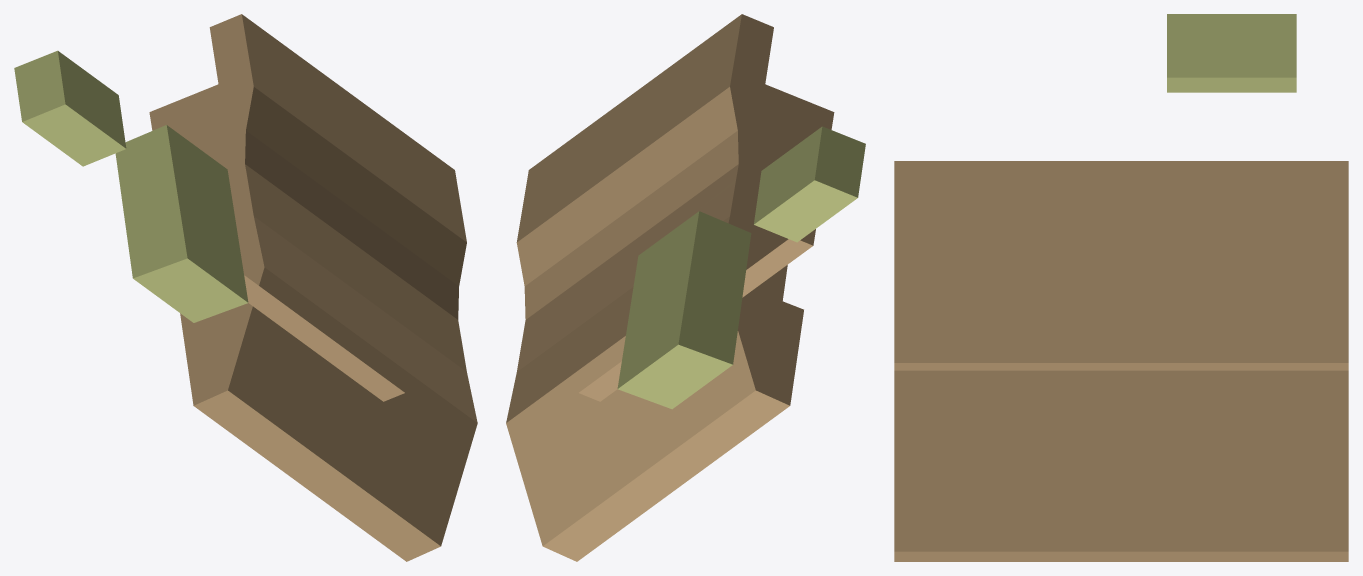
3 views of the same model, side by side, from view 1: azimuth 30°, elevation 25°; view 2: azimuth 150°, elevation 25°; view 3: azimuth 270°, elevation 25° (orthographic). The views are drawn at different scales.
Parts seen in each view (by area): view 1: 0_1_2_0_3_1_2_3_0_2; view 2: 0_1_2_0_3_1_2_3_0_2; view 3: 0_1_2_0_3_1_2_3_0_2.
Boxes of the visible parts, x1=… form: 0_1_2_0_3_1_2_3_0_2: x1=14, y1=14, x2=477, y2=561; 0_1_2_0_3_1_2_3_0_2: x1=506, y1=14, x2=865, y2=561; 0_1_2_0_3_1_2_3_0_2: x1=894, y1=14, x2=1348, y2=561.
Size of the model in its own units: 15.62 by 22.4 by 21.
